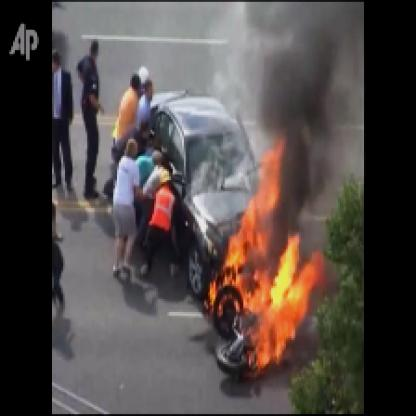Fire: (206, 138, 329, 374)
Smoke: (262, 2, 360, 219)
